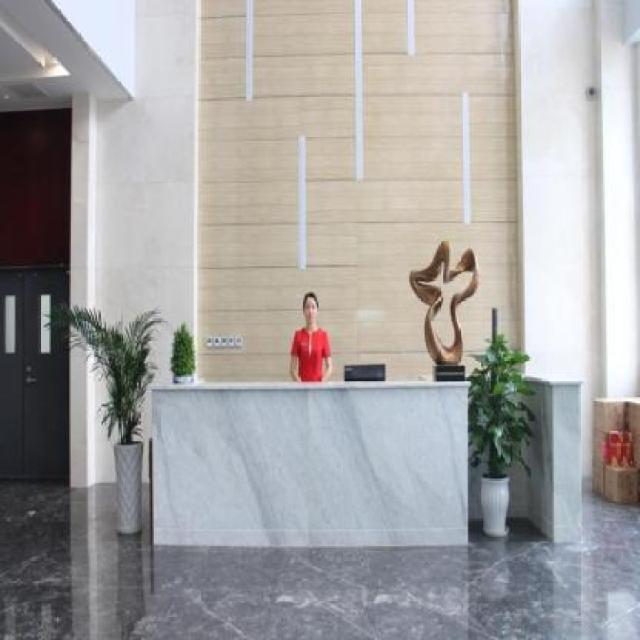frontdesk: (148, 371, 476, 557)
